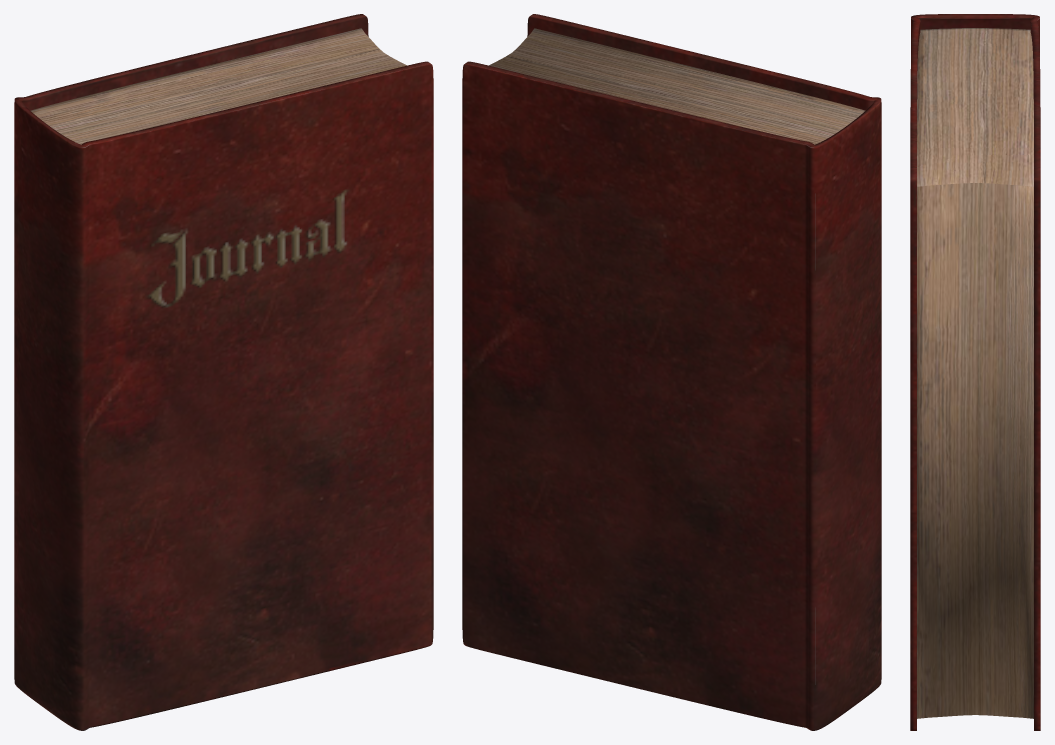
File: Book_01_SM.fbx
3 renders of one model, left to right at view 1: azimuth 30°, elevation 25°; view 2: azimuth 150°, elevation 25°; view 3: azimuth 270°, elevation 25°, orthographic. The views are drawn at different scales.
Visible parts, largest first — view 1: Plane; view 2: Plane; view 3: Plane.
Boxes of the visible parts, x1,y1,x2,y2 form: Plane: (14, 14, 433, 730); Plane: (462, 14, 881, 730); Plane: (910, 14, 1040, 730).
Bounding box in the file's own units: 15.19 × 23.5 × 5.
